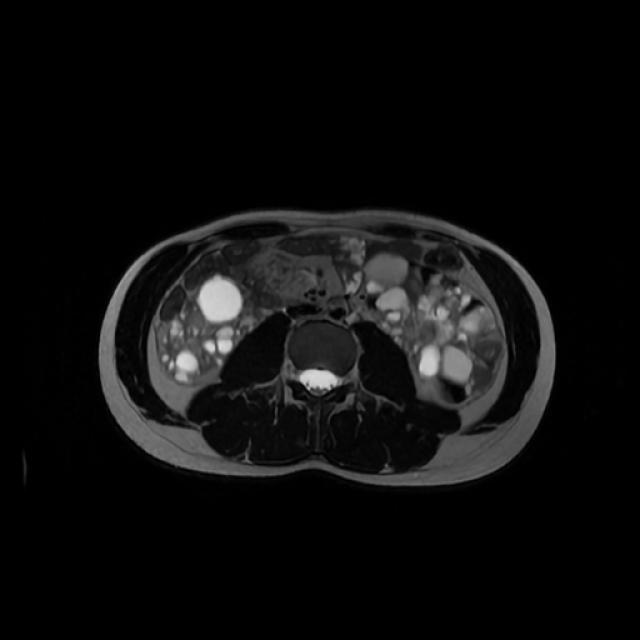sag: (153, 272, 261, 388)
sol: (361, 253, 505, 406)
